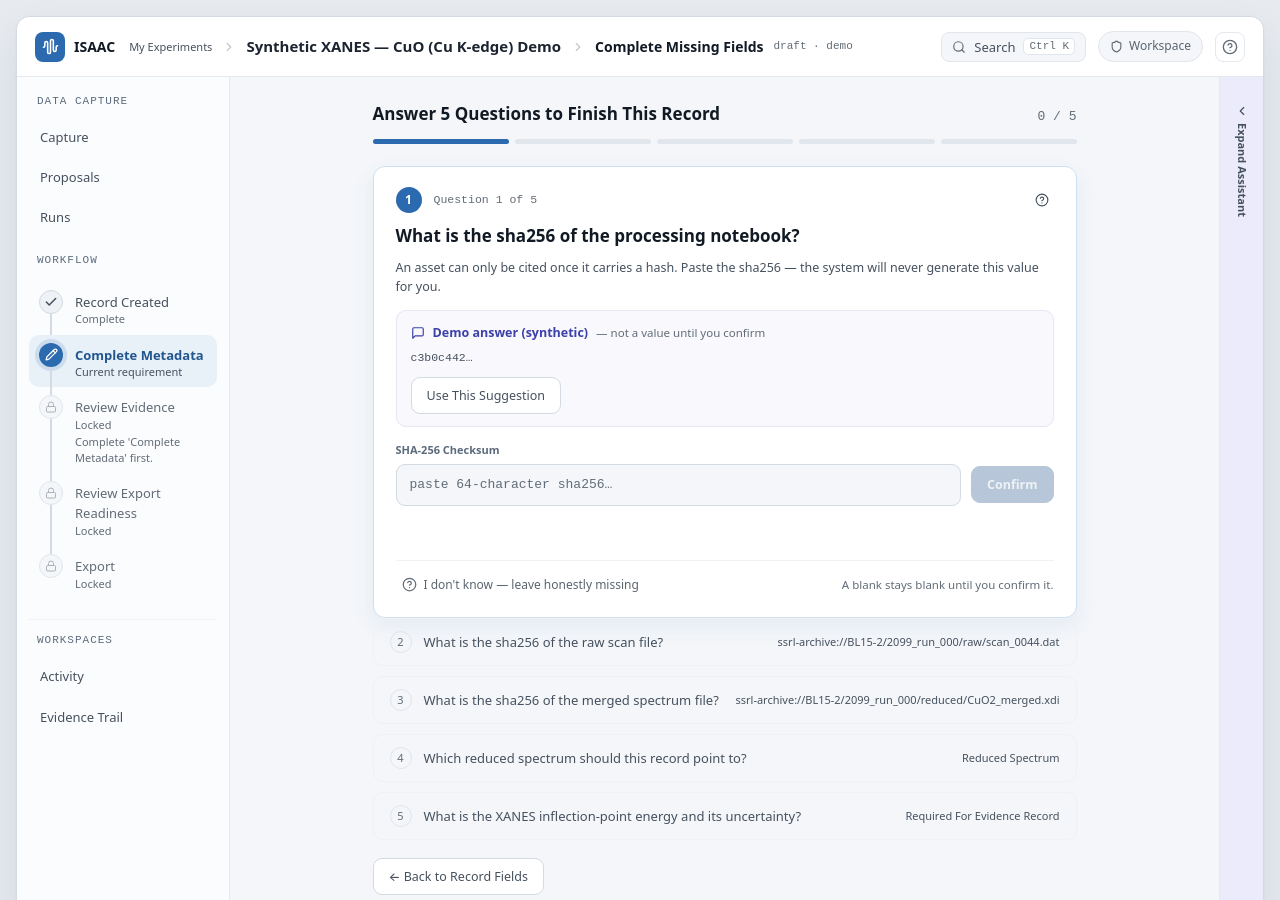
Test case: P27.5 · optimistic-concurrency conflict UX › answers: a successful confirm adopts the new version; the NEXT submit sends the updated If-Match
Check: the heading "What is the sha256 of the processing notebook?" is shown, box [396,224,800,247]
Type "aaaa" into the field named "Asset Hash" at (678, 485), box [396,464,961,506]
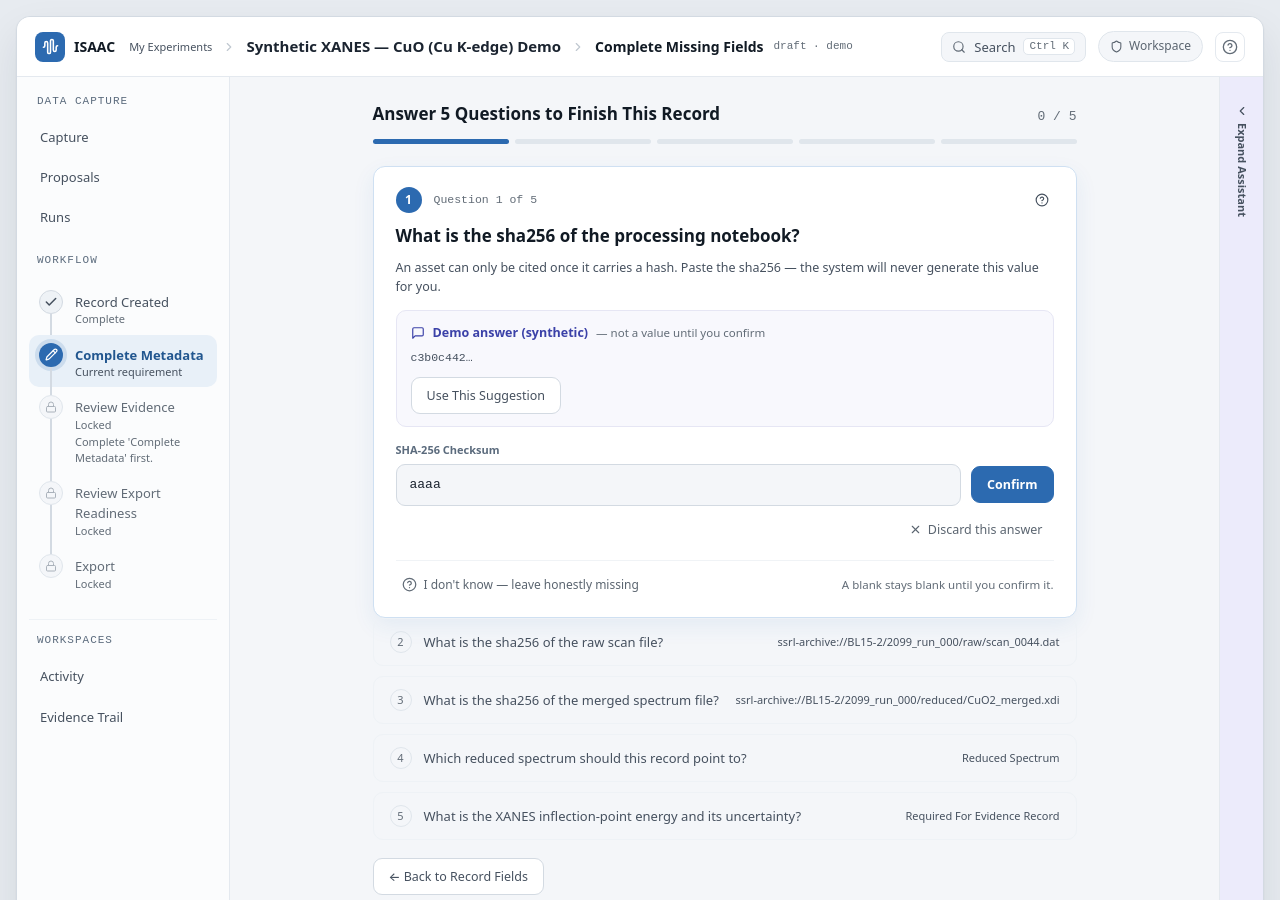
Click the button "Confirm" at (1012, 485), box [971,466,1054,503]
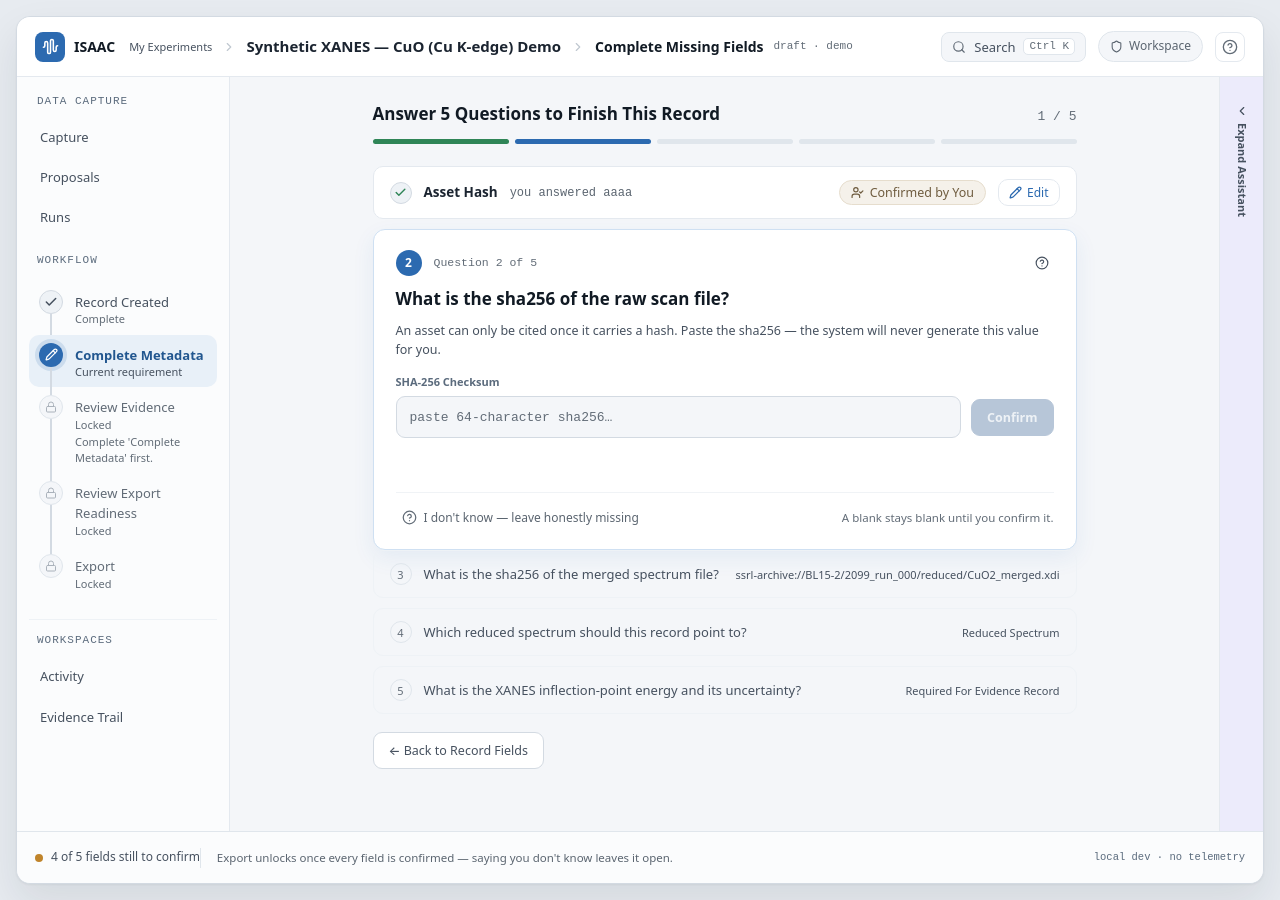
Check: the text "1 / 5" is shown, box [1038,107,1076,127]
Type "bbbb" into the field named "Asset Hash" at (678, 418), box [396,396,961,438]
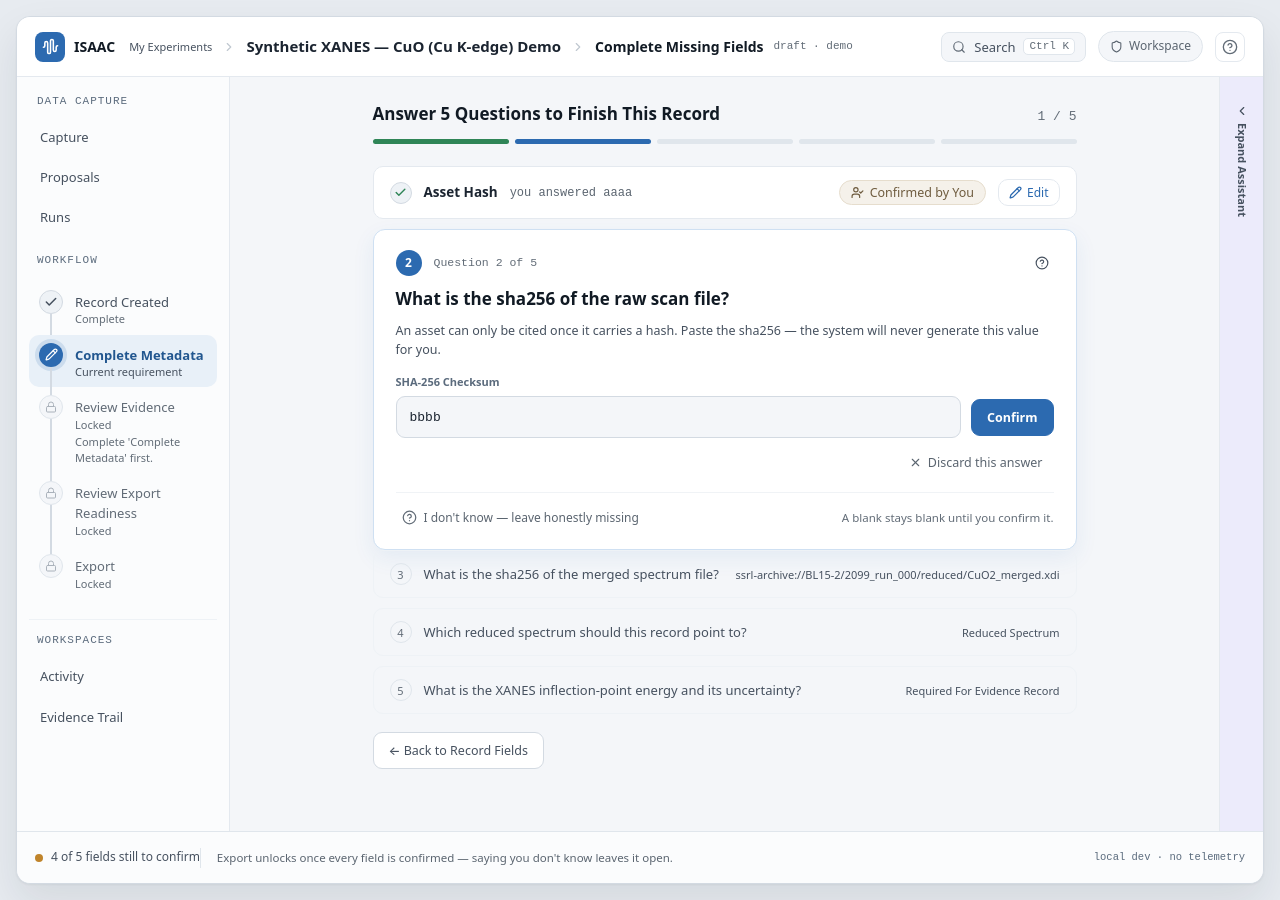
Click the button "Confirm" at (1012, 418), box [971,399,1054,436]
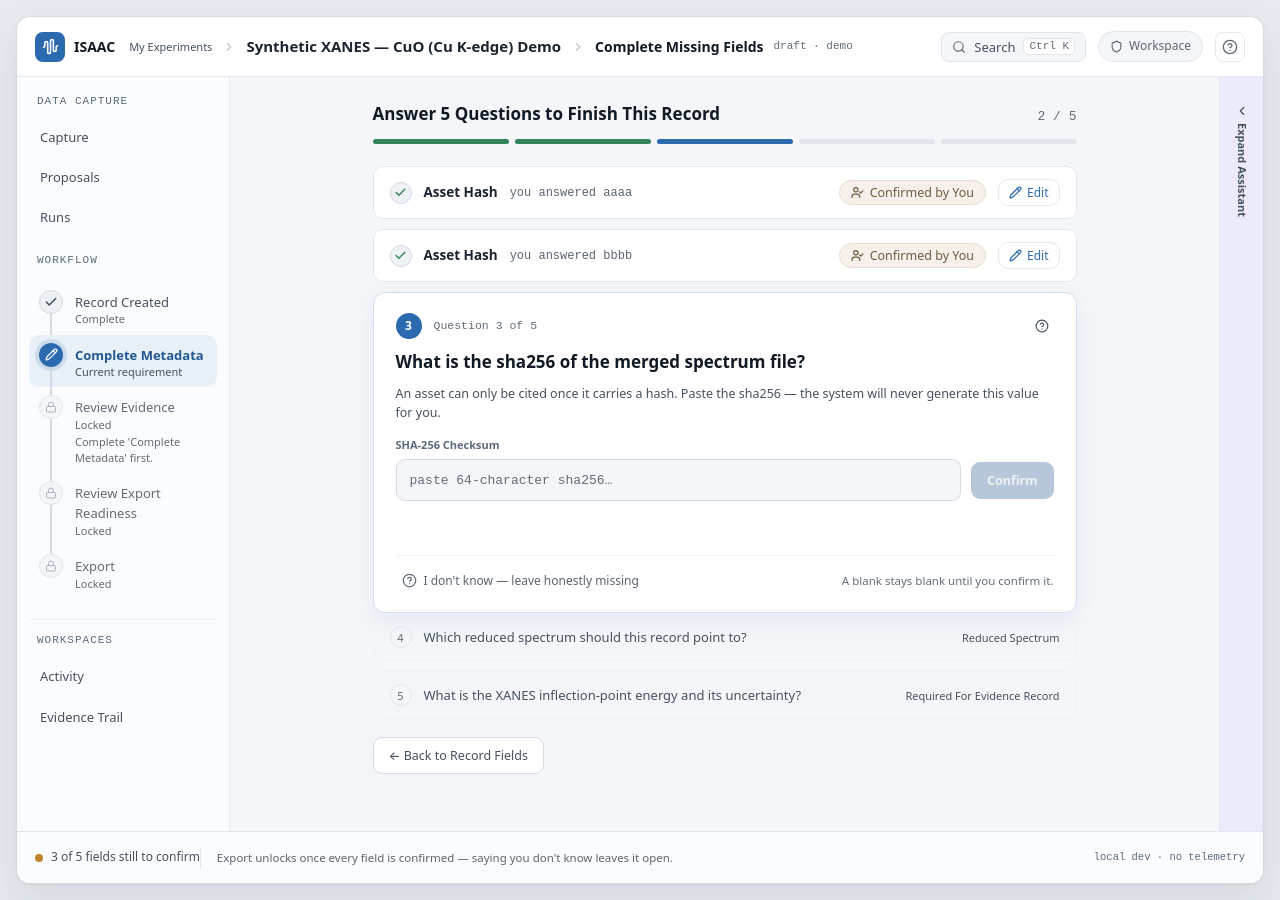
Check: the text "2 / 5" is shown, box [1038,107,1076,127]
